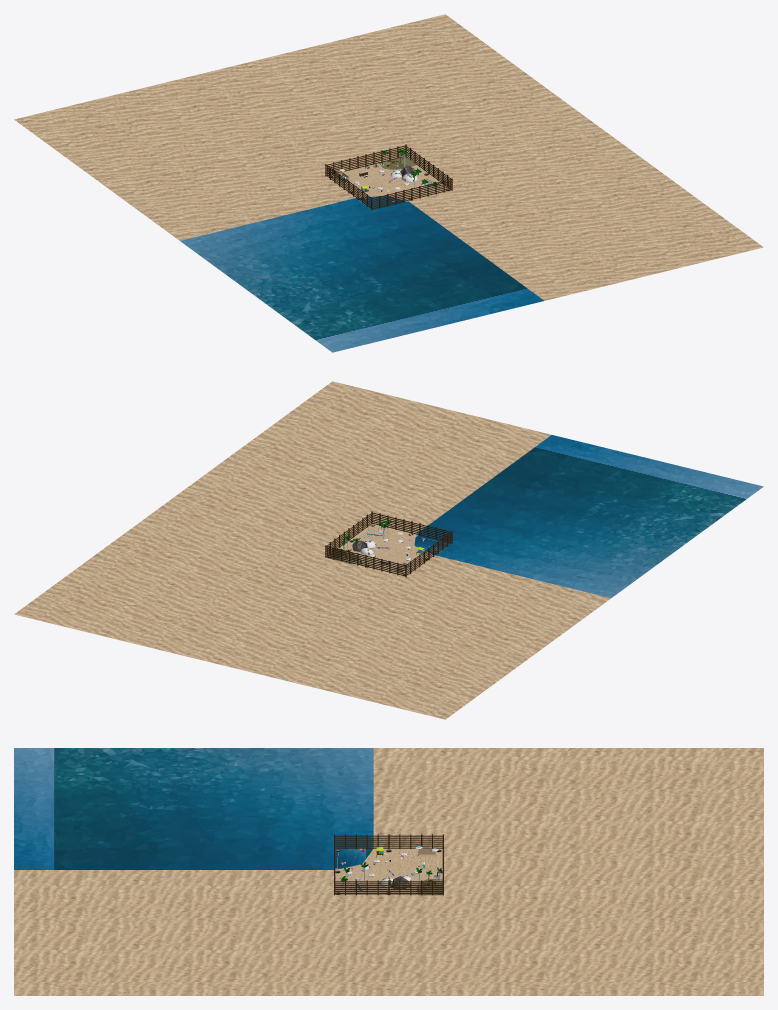
The model's file is SurvivalModeMap.glb.
3 renders of one model, top to bottom at view 1: azimuth 30°, elevation 25°; view 2: azimuth 150°, elevation 25°; view 3: azimuth 270°, elevation 25°, orthographic. The views are drawn at different scales.
Parts seen in each view (by area): view 1: Sand - Distance, Ocean - Distance, Fences, Ground; view 2: Sand - Distance, Ocean - Distance, Fences, Ground; view 3: Sand - Distance, Ocean - Distance, Ground, Fences.
Part boxes in pixels (<box>): Sand - Distance: <box>14,14,763,300</box>; Ocean - Distance: <box>180,198,543,352</box>; Fences: <box>325,144,452,210</box>; Ground: <box>326,157,451,209</box>; Sand - Distance: <box>14,381,610,719</box>; Ocean - Distance: <box>417,435,763,598</box>; Fences: <box>325,511,452,577</box>; Ground: <box>326,524,451,576</box>; Sand - Distance: <box>14,748,763,995</box>; Ocean - Distance: <box>14,748,373,869</box>; Ground: <box>335,848,442,895</box>; Fences: <box>334,834,443,895</box>.
Size of what is drawn, in the model's own units: 325 by 20.95 by 416.
Materials: 130 (10 with a texture image).
